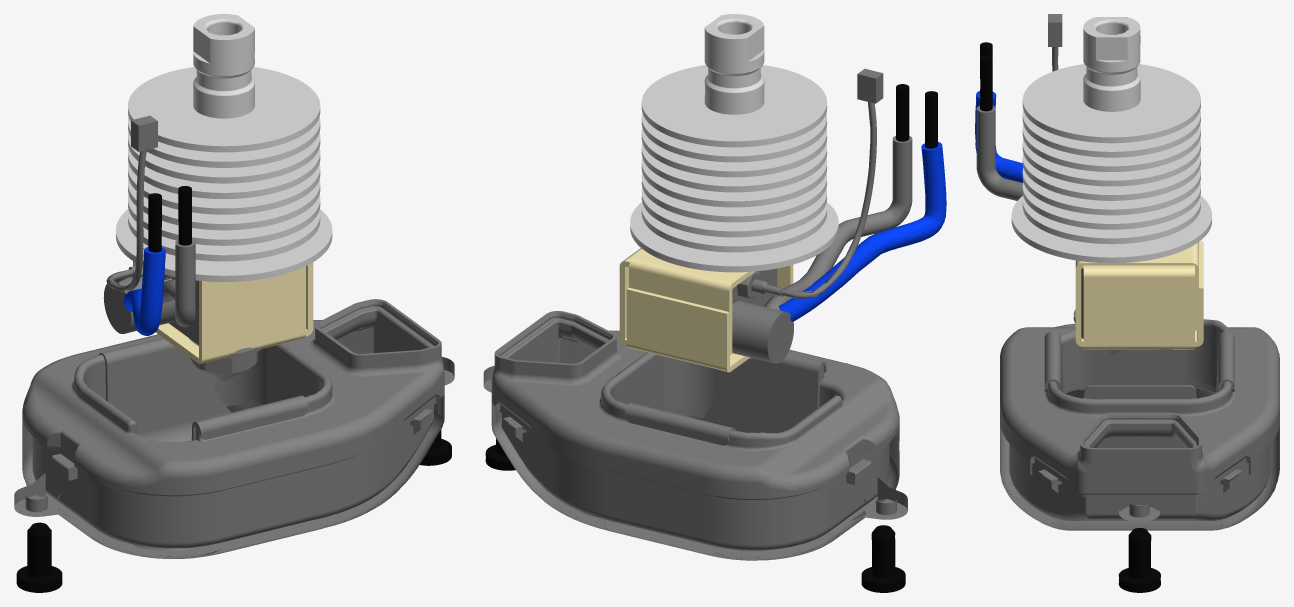
3 renders of one model, left to right at view 1: azimuth 30°, elevation 25°; view 2: azimuth 150°, elevation 25°; view 3: azimuth 270°, elevation 25°, orthographic. The views are drawn at different scales.
Visible parts, largest first — view 1: Node; view 2: Node; view 3: Node.
Part boxes in pixels (<box>): Node: <box>14,14,454,592</box>; Node: <box>483,14,946,592</box>; Node: <box>975,14,1279,592</box>.
Bounding box in the file's own units: 2.87 × 3.35 × 1.89.
